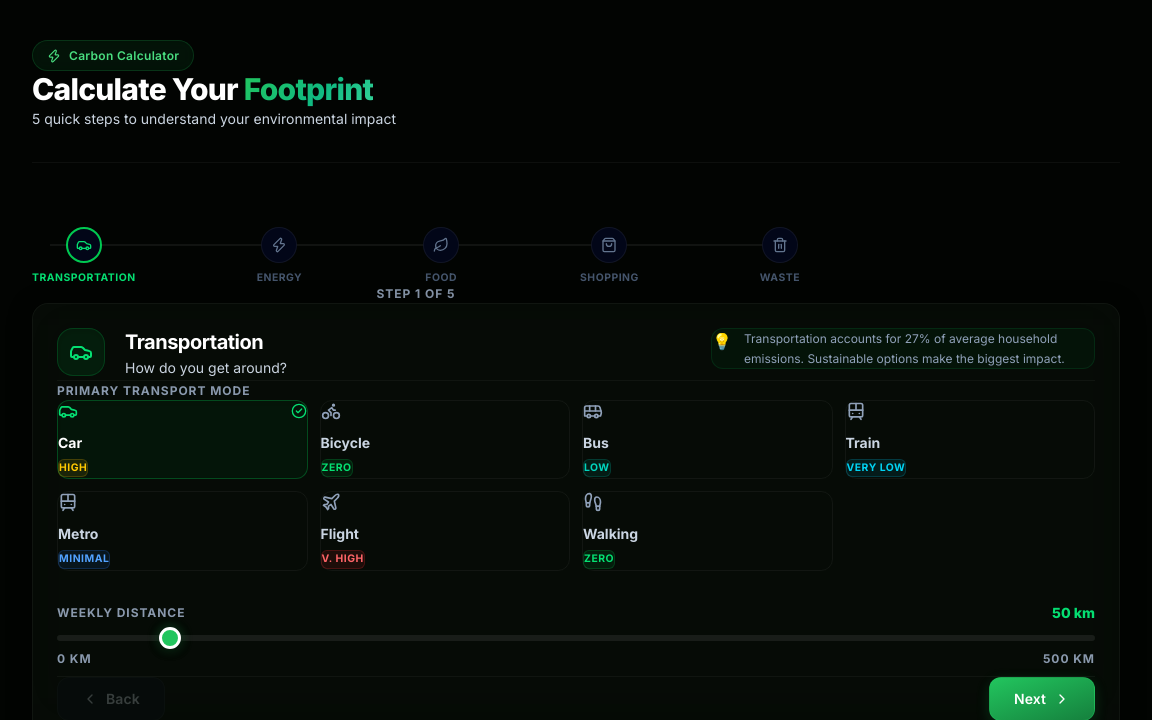
Test: CalculatorPage Component › correctly renders score display components for 0/100 (Critical) cases
Skip to Step 5 quickly
Click the button "Next" at point(1042, 699), box x1=989 y1=677 x2=1095 y2=719
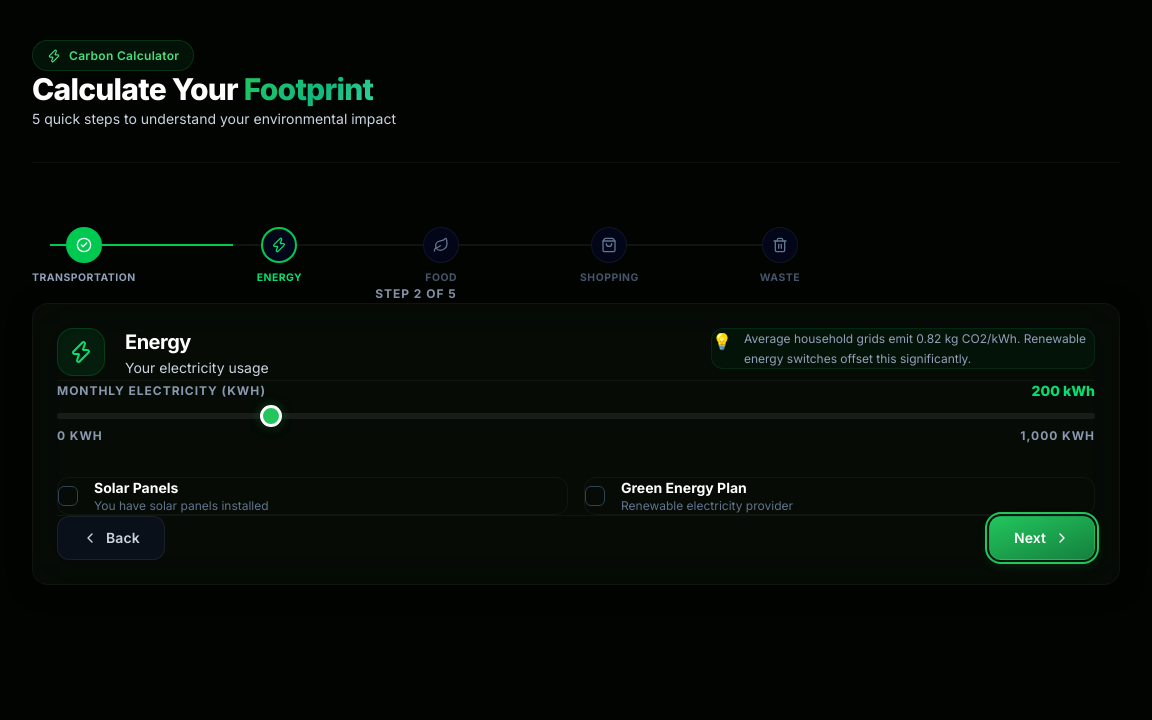
Click the button "Next" at point(1042, 538), box x1=989 y1=516 x2=1095 y2=560
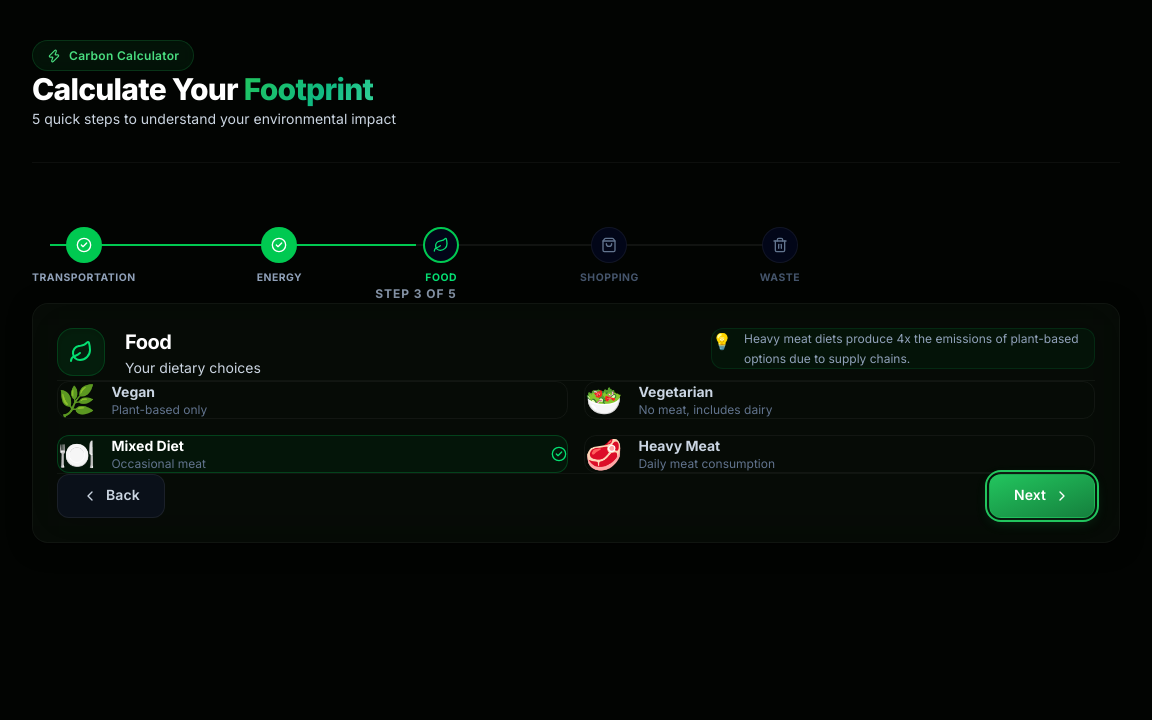
Click the button "Next" at point(1042, 496), box x1=989 y1=474 x2=1095 y2=518
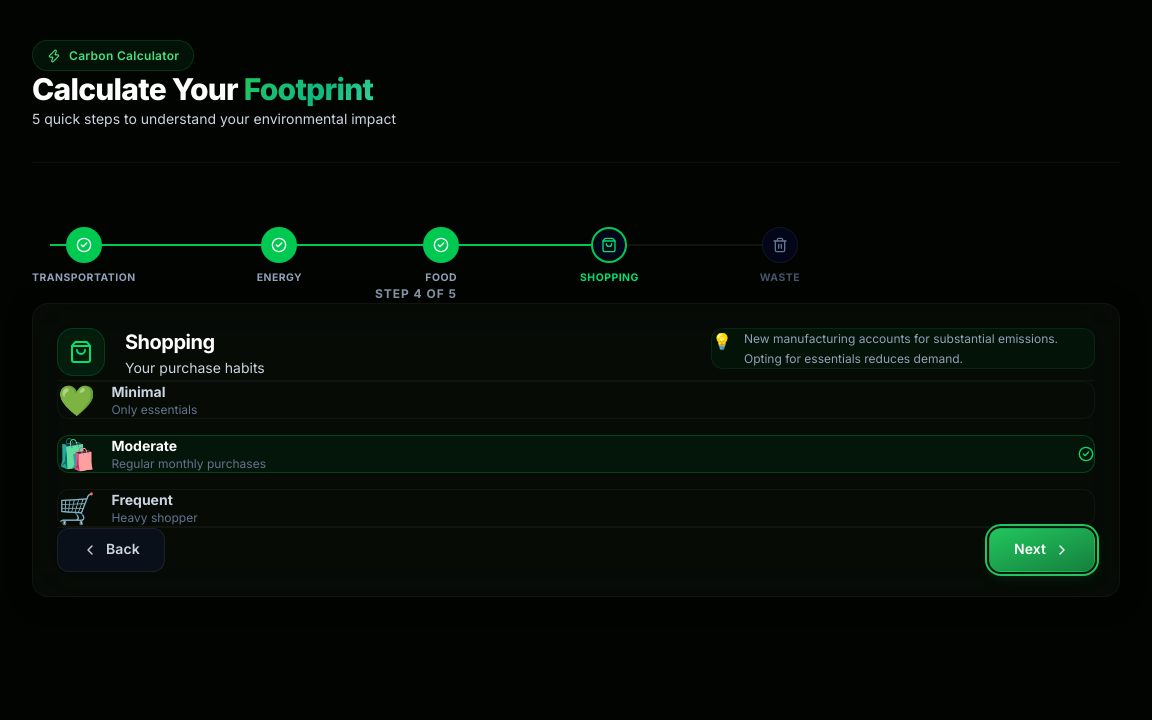
Click the button "Next" at point(1042, 550), box x1=989 y1=528 x2=1095 y2=572
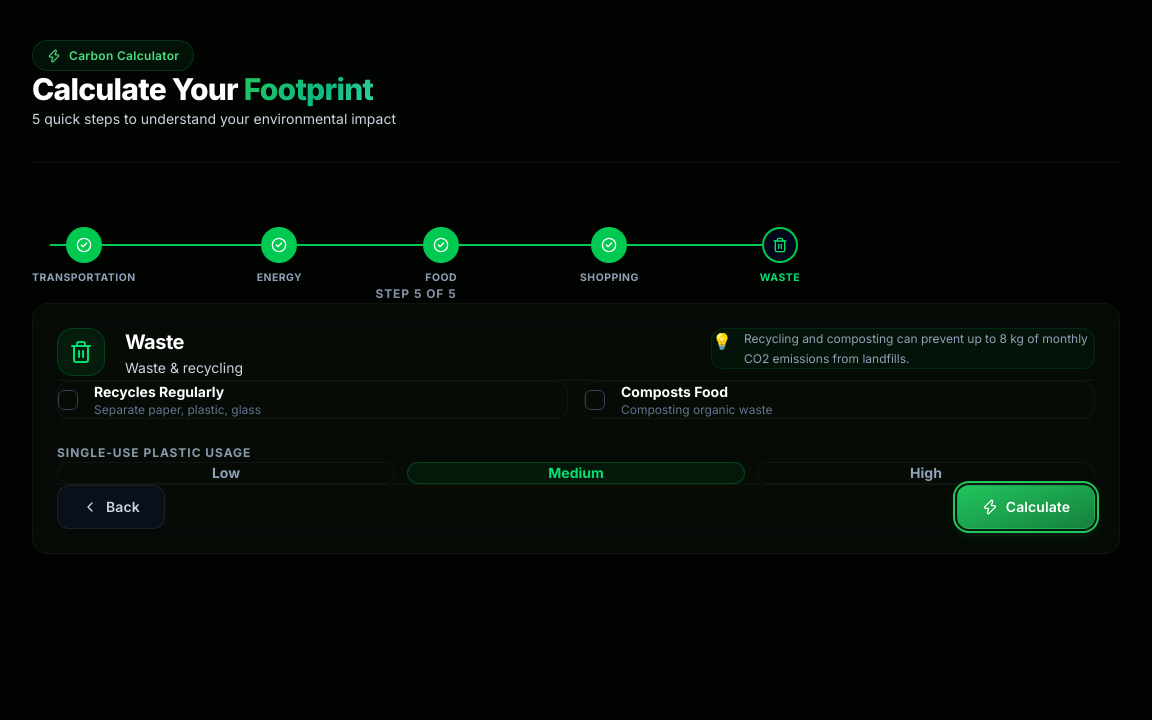
Click the button "Calculate" at point(1026, 507), box x1=957 y1=485 x2=1095 y2=529
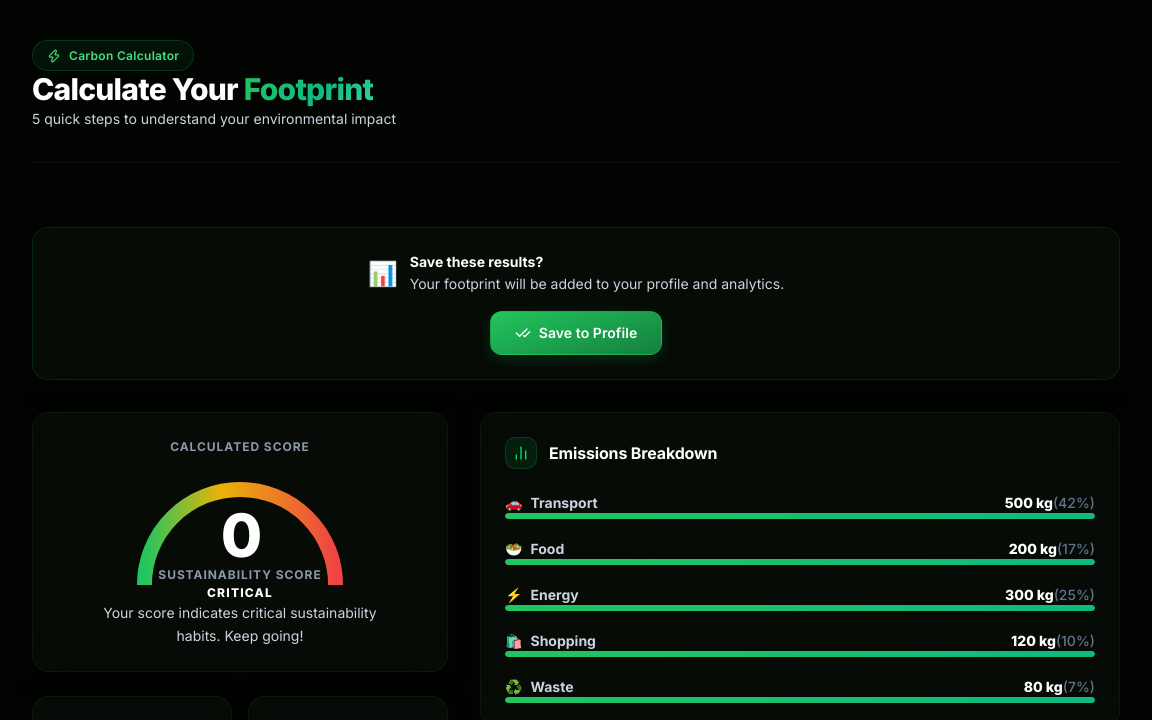
Expected: the text "0" is shown, x1=221 y1=499 x2=259 y2=571
Expected: the text "Critical" is shown, x1=207 y1=585 x2=273 y2=601
